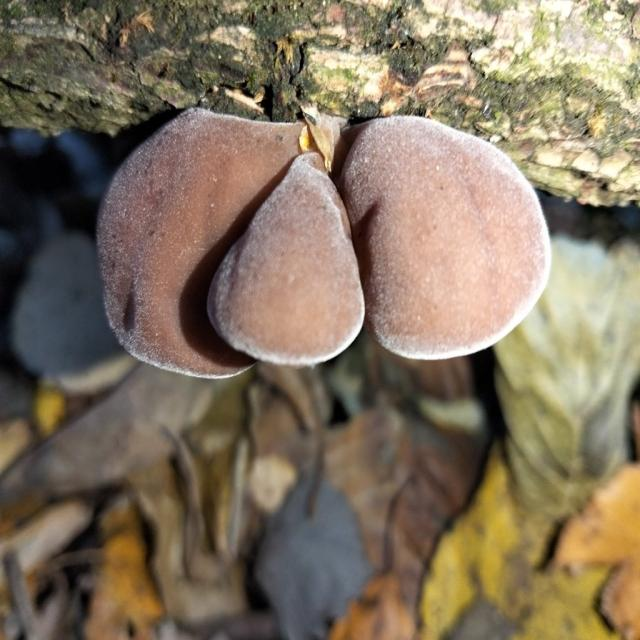Matang: (90, 95, 564, 379)
